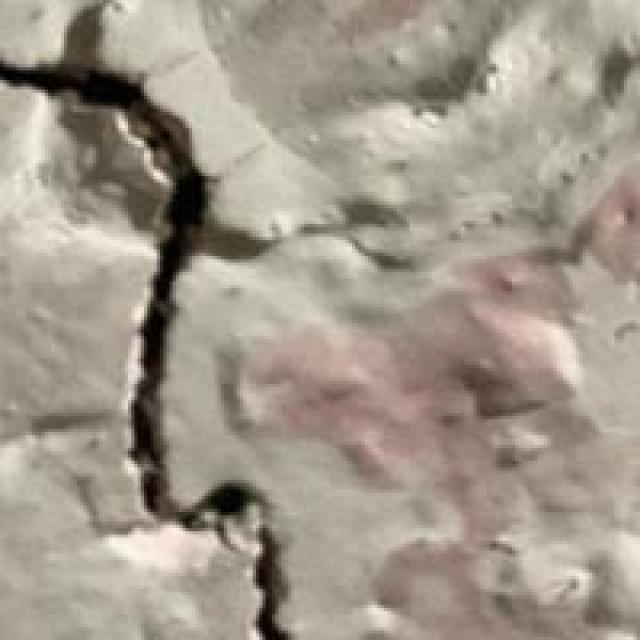crack: (0, 32, 314, 637)
